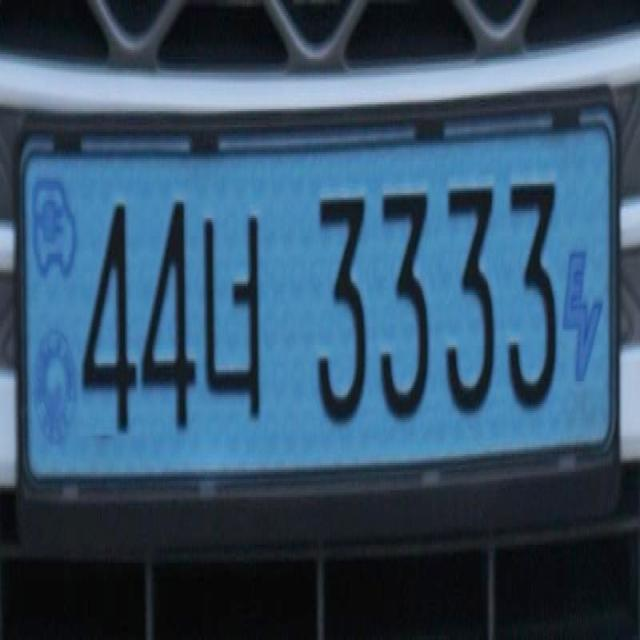EV_plate: (9, 107, 629, 516)
